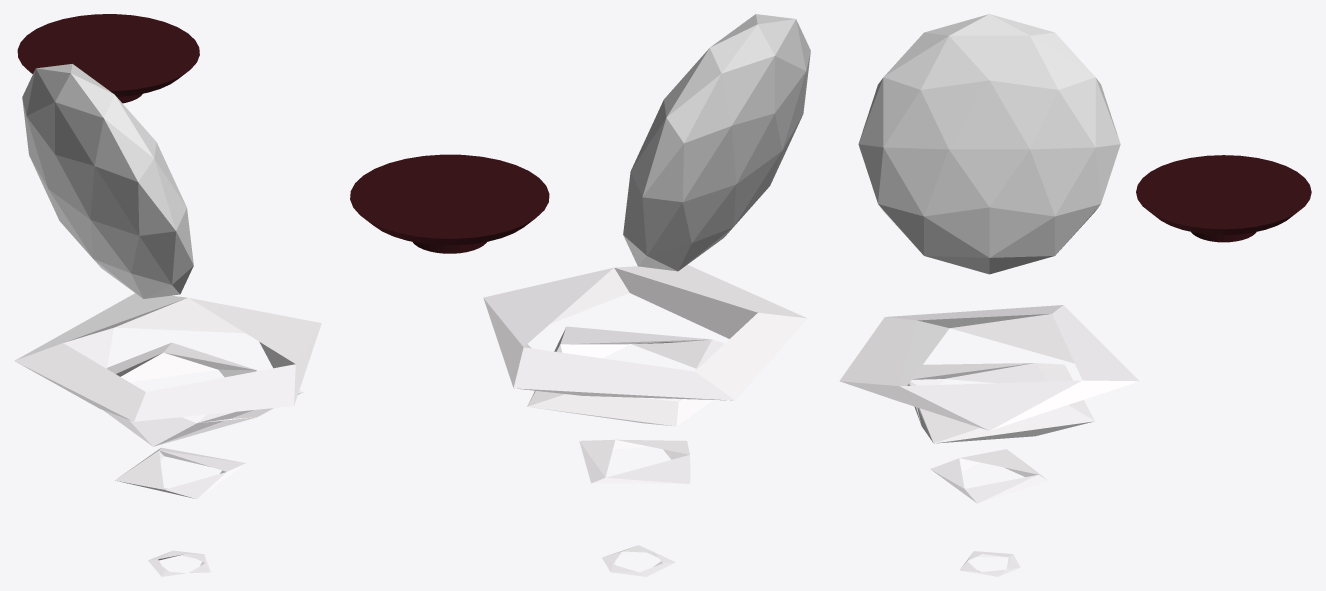
File: ChairAssets.fbx
The picture shows the model from 3 angles, left to right: view 1: azimuth 30°, elevation 25°; view 2: azimuth 150°, elevation 25°; view 3: azimuth 270°, elevation 25°; orthographic projection. The views are drawn at different scales.
Parts seen in each view (by area): view 1: Torus.004, Icosphere, Cube.002; view 2: Torus.004, Icosphere, Cube.002; view 3: Icosphere, Torus.004, Cube.002.
Part boxes in pixels (<box>): Torus.004: <box>14,293,321,576</box>; Icosphere: <box>22,64,193,298</box>; Cube.002: <box>17,14,199,96</box>; Torus.004: <box>483,264,807,576</box>; Icosphere: <box>623,14,810,271</box>; Cube.002: <box>350,154,549,245</box>; Icosphere: <box>858,14,1120,274</box>; Torus.004: <box>839,305,1139,576</box>; Cube.002: <box>1136,155,1311,234</box>.
Bounding box in the file's own units: 224 × 412 × 353.
